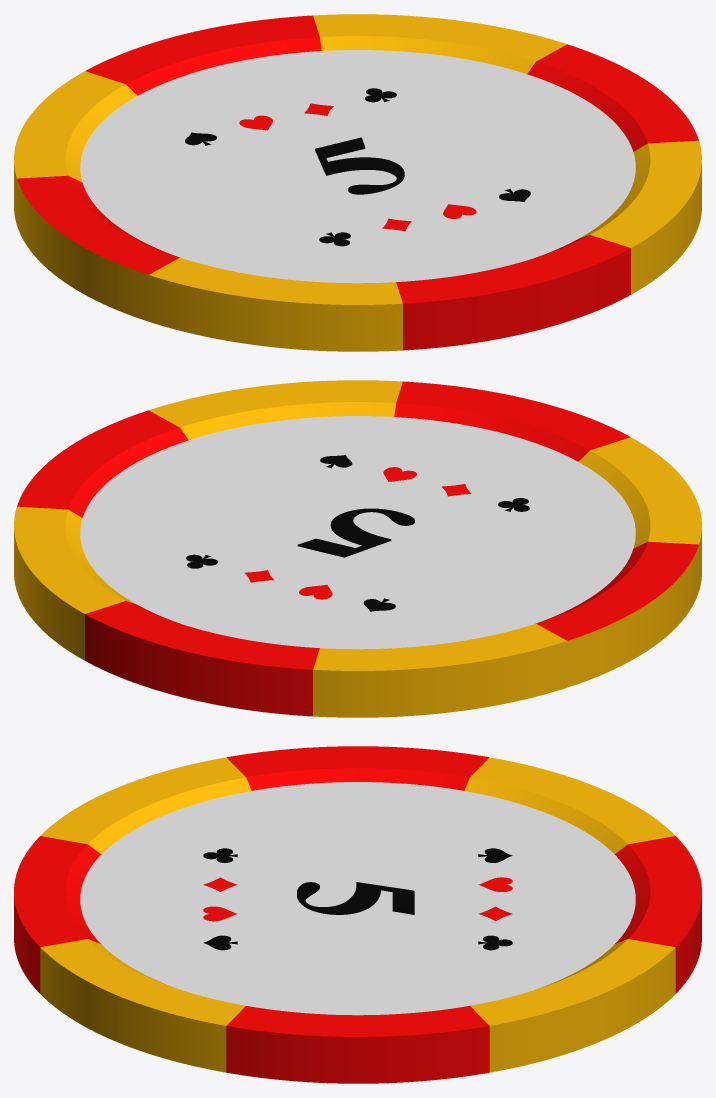
The model's file is Value5Chip.fbx.
The picture shows the model from 3 angles, top to bottom: view 1: azimuth 30°, elevation 25°; view 2: azimuth 150°, elevation 25°; view 3: azimuth 270°, elevation 25°; orthographic projection.
Parts seen in each view (by area): view 1: Base, Value01; view 2: Base, Value01; view 3: Base, Value01.
Part boxes in pixels (x1,y1,x2,y2): Base: (14, 14, 701, 351); Value01: (315, 137, 404, 194); Base: (14, 380, 701, 717); Value01: (297, 508, 414, 557); Base: (14, 746, 701, 1083); Value01: (297, 882, 414, 914).
Size of the model in its own units: 80 by 6 by 80.
